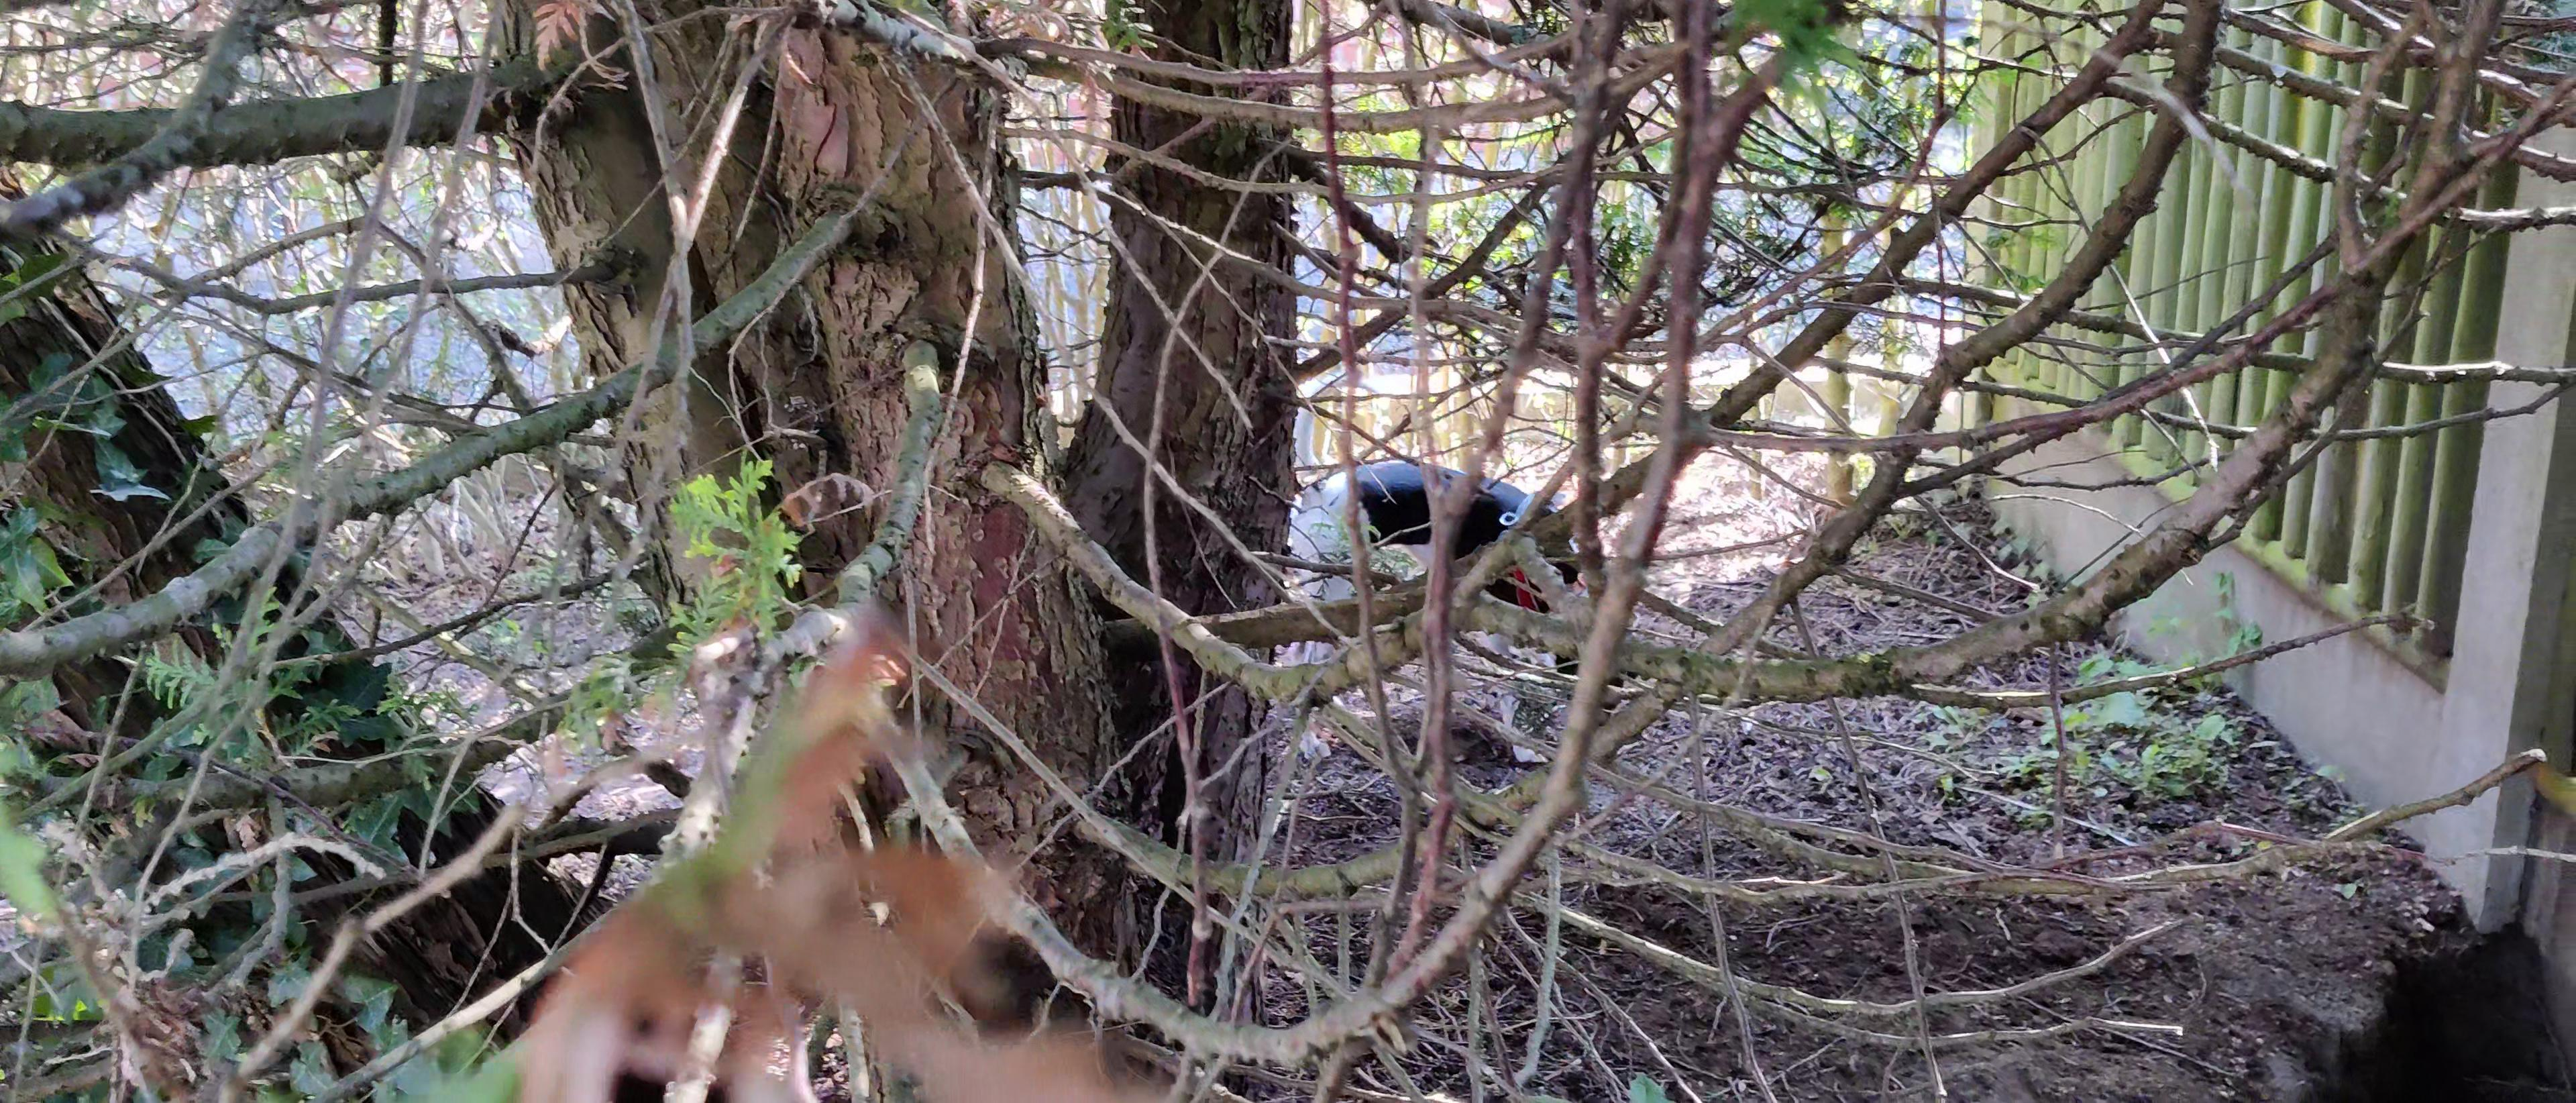Dog: (1262, 372, 1638, 781)
